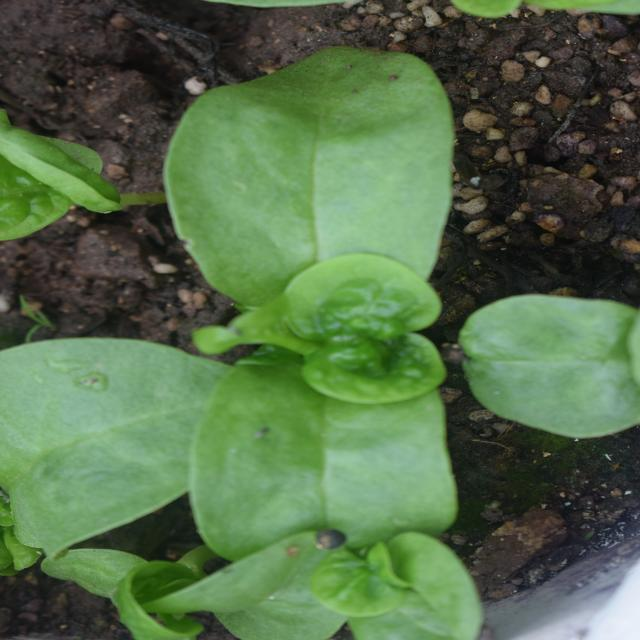Ceylon spinach: (54, 147, 576, 563)
